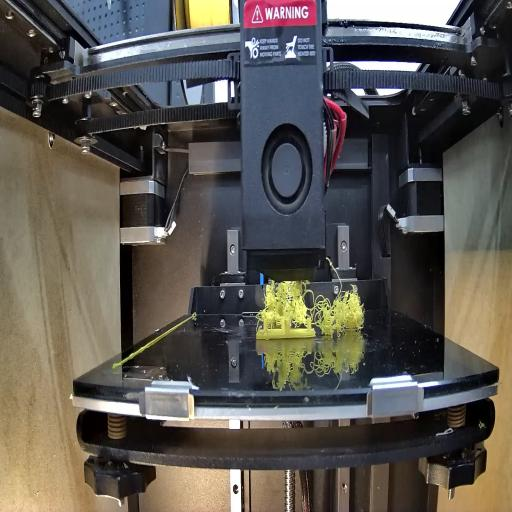spaghetti: (317, 270, 367, 339), (259, 272, 314, 325)
